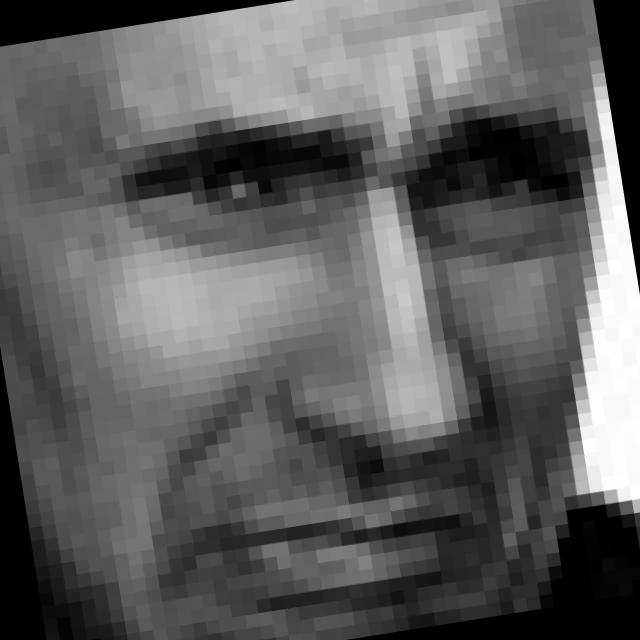disgust: (80, 69, 640, 640)
